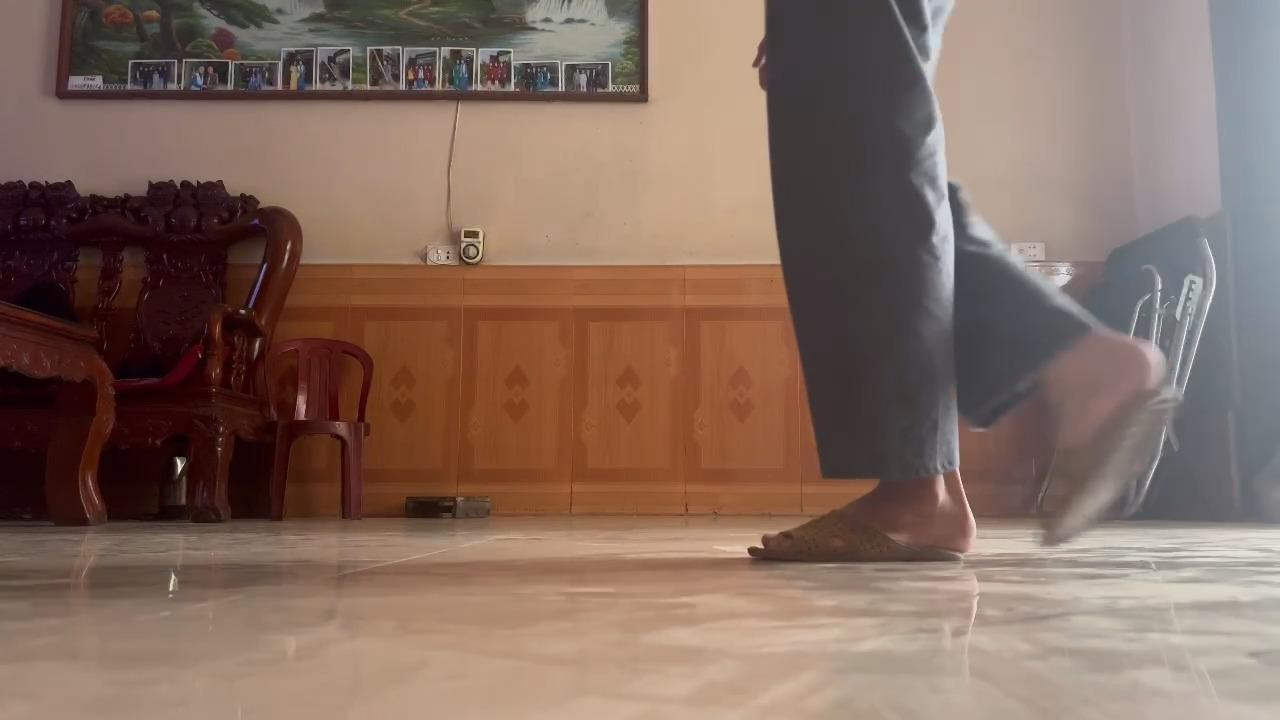no-boot: (1030, 332, 1192, 554), (738, 482, 982, 575)
